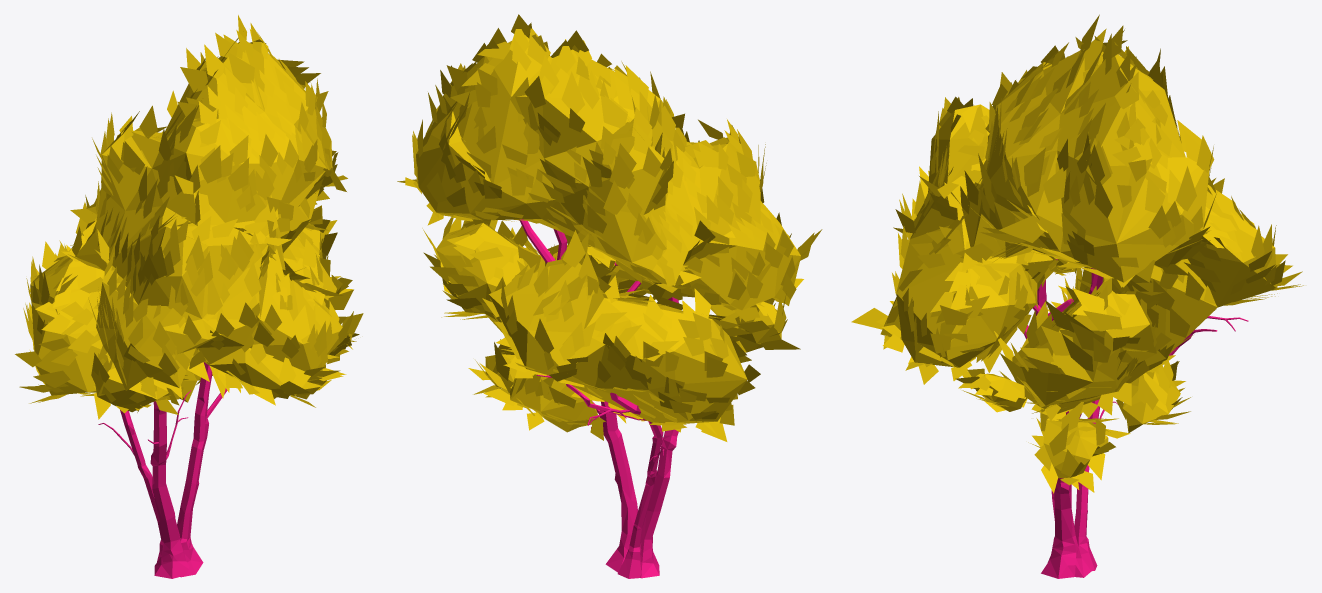
File: SM_Tree_Birch_Mature_C.fbx
The picture shows the model from 3 angles, left to right: view 1: azimuth 30°, elevation 25°; view 2: azimuth 150°, elevation 25°; view 3: azimuth 270°, elevation 25°; orthographic projection. The views are drawn at different scales.
Parts seen in each view (by area): view 1: SM_Tree_Birch_Mature_C; view 2: SM_Tree_Birch_Mature_C; view 3: SM_Tree_Birch_Mature_C.
Part boxes in pixels (bbox=[...]): SM_Tree_Birch_Mature_C: bbox=[15, 15, 363, 578]; SM_Tree_Birch_Mature_C: bbox=[397, 14, 822, 578]; SM_Tree_Birch_Mature_C: bbox=[851, 14, 1303, 578].
Bounding box in the file's own units: 7.49 × 11.28 × 7.85.
